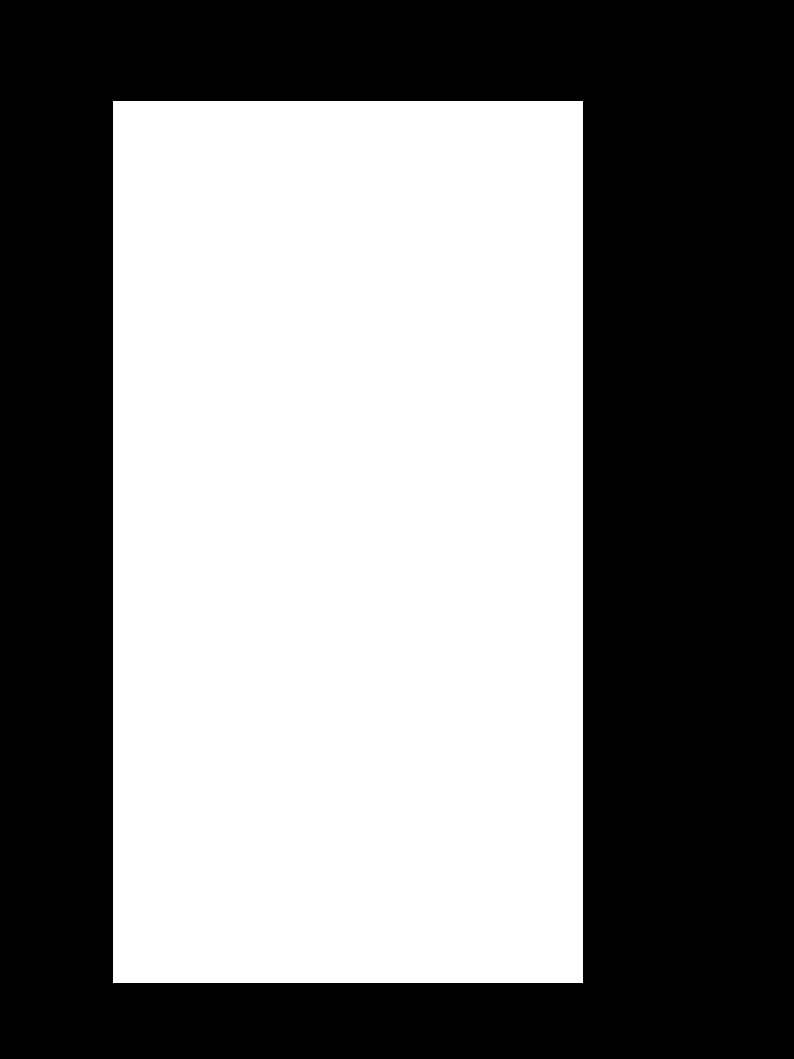table: (113, 101, 582, 982)
